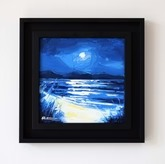painting: (18, 17, 146, 144)
